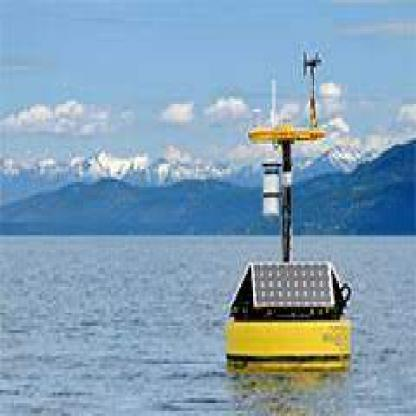buoy: (218, 39, 354, 374)
